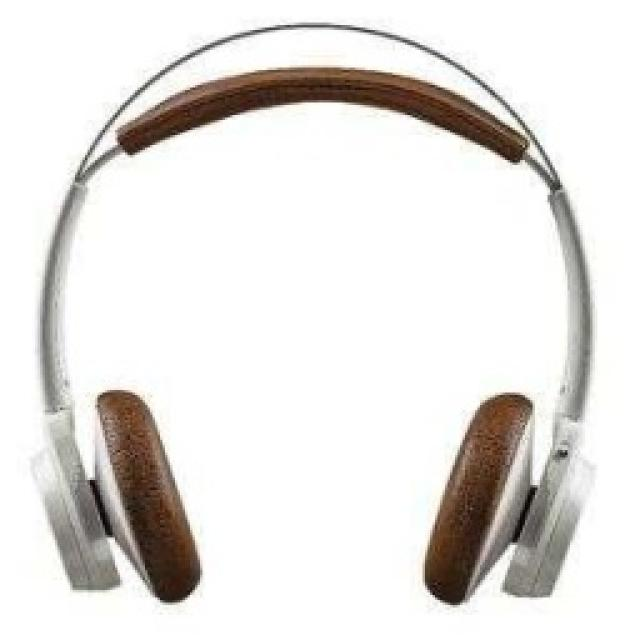headphones: (28, 20, 598, 605)
